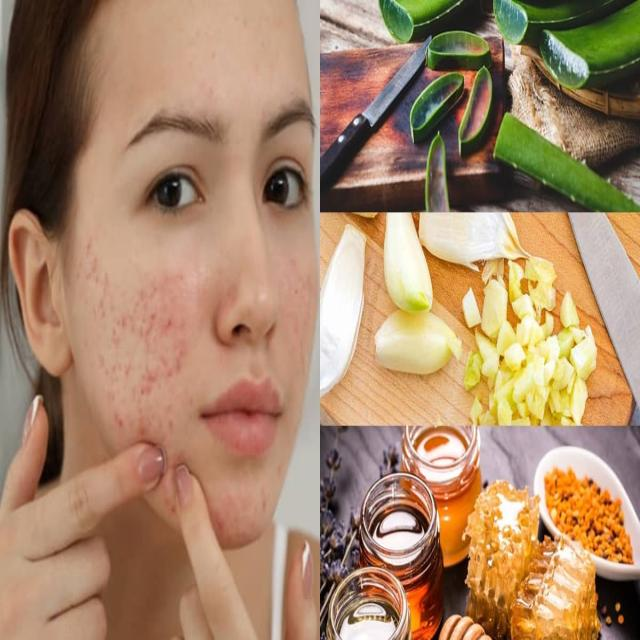Acne: (74, 236, 206, 532), (208, 476, 285, 551), (281, 240, 318, 382)
